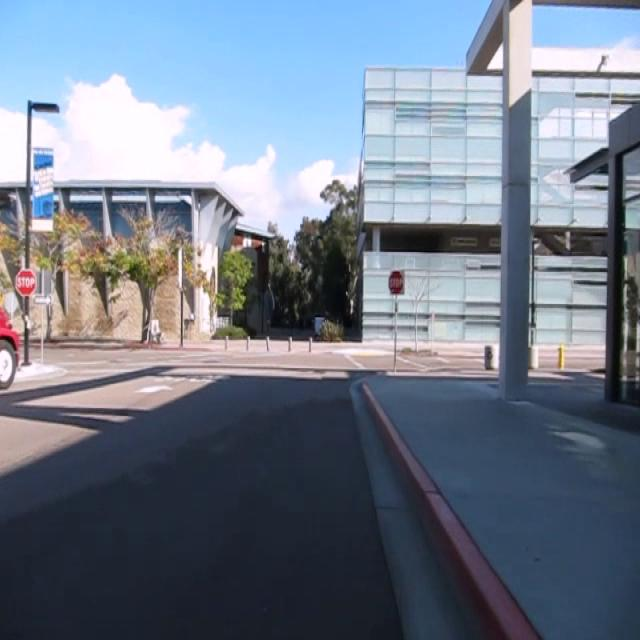stop: (14, 268, 37, 296), (387, 268, 404, 296)
